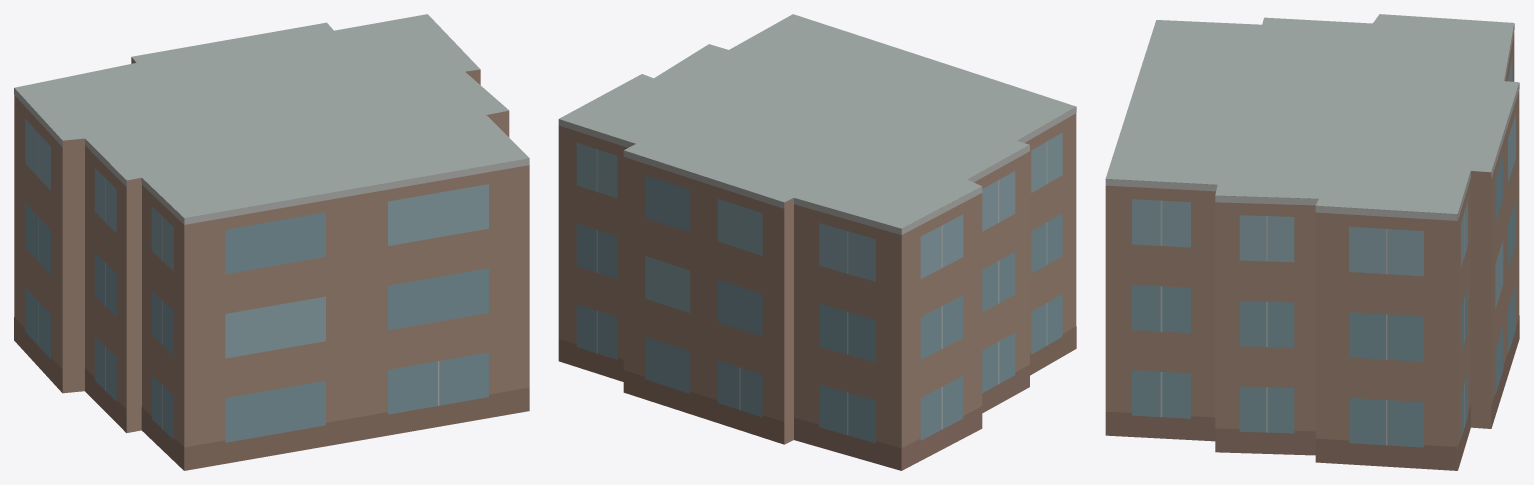
The model's file is survey-upis-32913747.glb.
3 renders of one model, left to right at view 1: azimuth 30°, elevation 25°; view 2: azimuth 150°, elevation 25°; view 3: azimuth 270°, elevation 25°, orthographic. The views are drawn at different scales.
Parts seen in each view (by area): view 1: survey-upis-32913747.tmp; view 2: survey-upis-32913747.tmp; view 3: survey-upis-32913747.tmp.
Part boxes in pixels (x1,y1,x2,y2): survey-upis-32913747.tmp: (14,14,529,470); survey-upis-32913747.tmp: (558,14,1076,470); survey-upis-32913747.tmp: (1105,14,1519,470).
Bounding box in the file's own units: 15.3 × 9.15 × 13.38.
